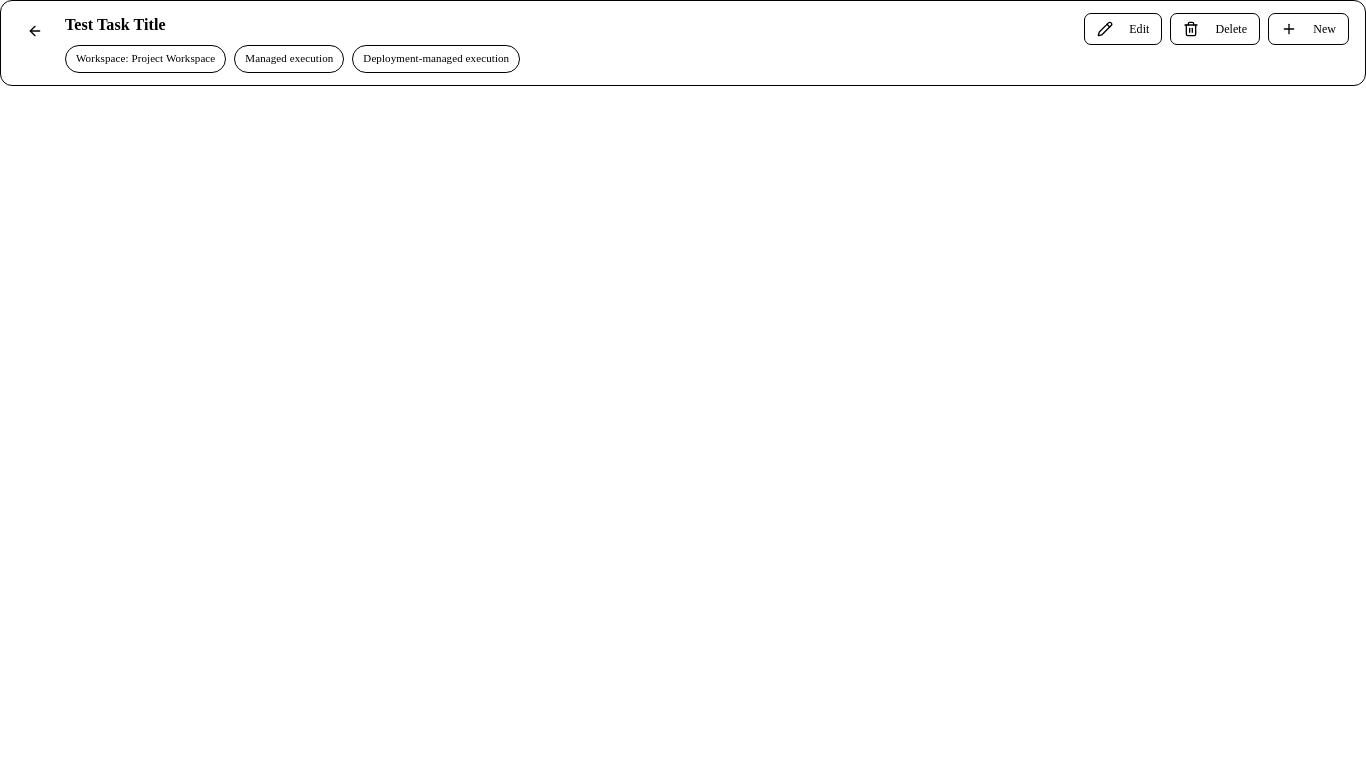
Test case: TaskHeader › Delete Button › opens delete confirmation dialog when clicked
What coordinates should you click on to do the following:
click the button "Delete"
I would click on:
 (1215, 29)
Its box is [1170,13,1260,45].
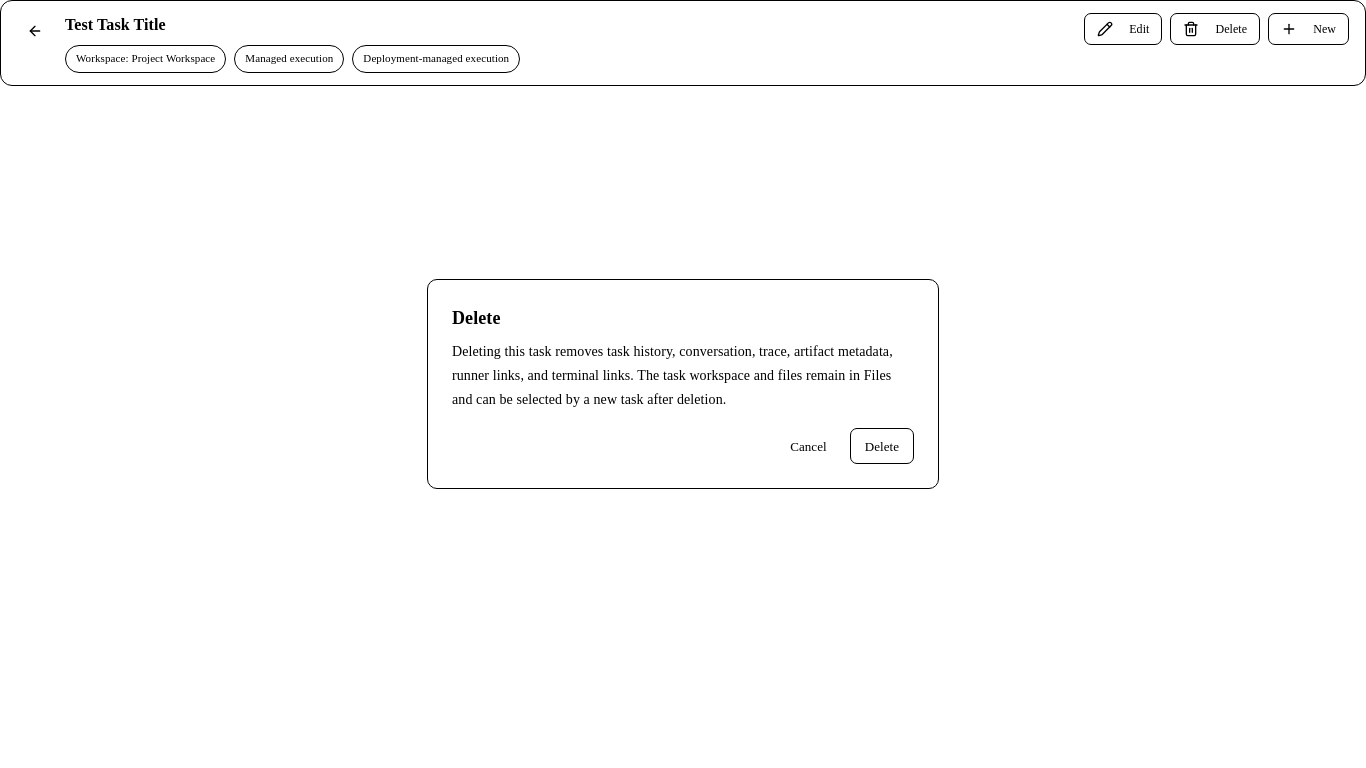
Result: the text "The task workspace and files remain in Files" is shown at [452,344,893,407]
